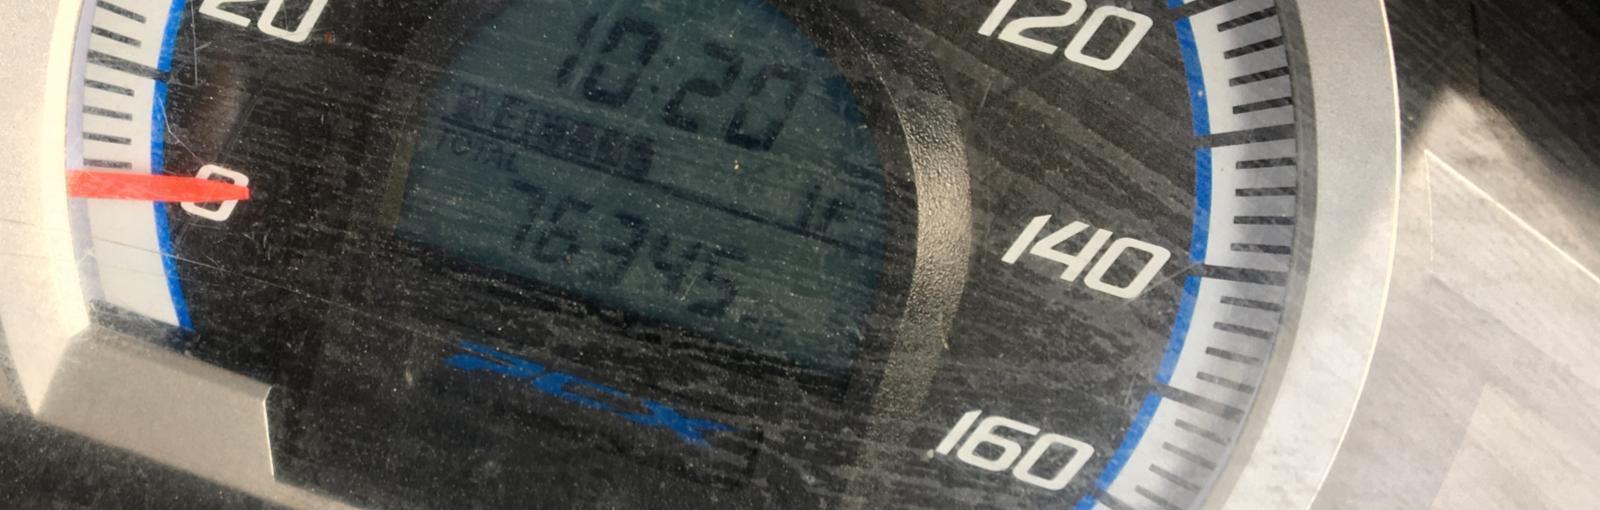0: (582, 11, 673, 102), (723, 69, 815, 152)
1: (548, 0, 609, 89)
2: (665, 30, 744, 139)
3: (585, 202, 645, 287)
4: (653, 220, 704, 309)
5: (699, 238, 747, 330)
6: (526, 190, 593, 269)
7: (501, 178, 544, 257)
X: (819, 192, 855, 235), (646, 53, 678, 96), (491, 89, 523, 127), (431, 121, 454, 154), (504, 146, 528, 175), (452, 131, 472, 160), (487, 143, 508, 170), (472, 132, 491, 161)
odometer: (379, 2, 909, 384)
